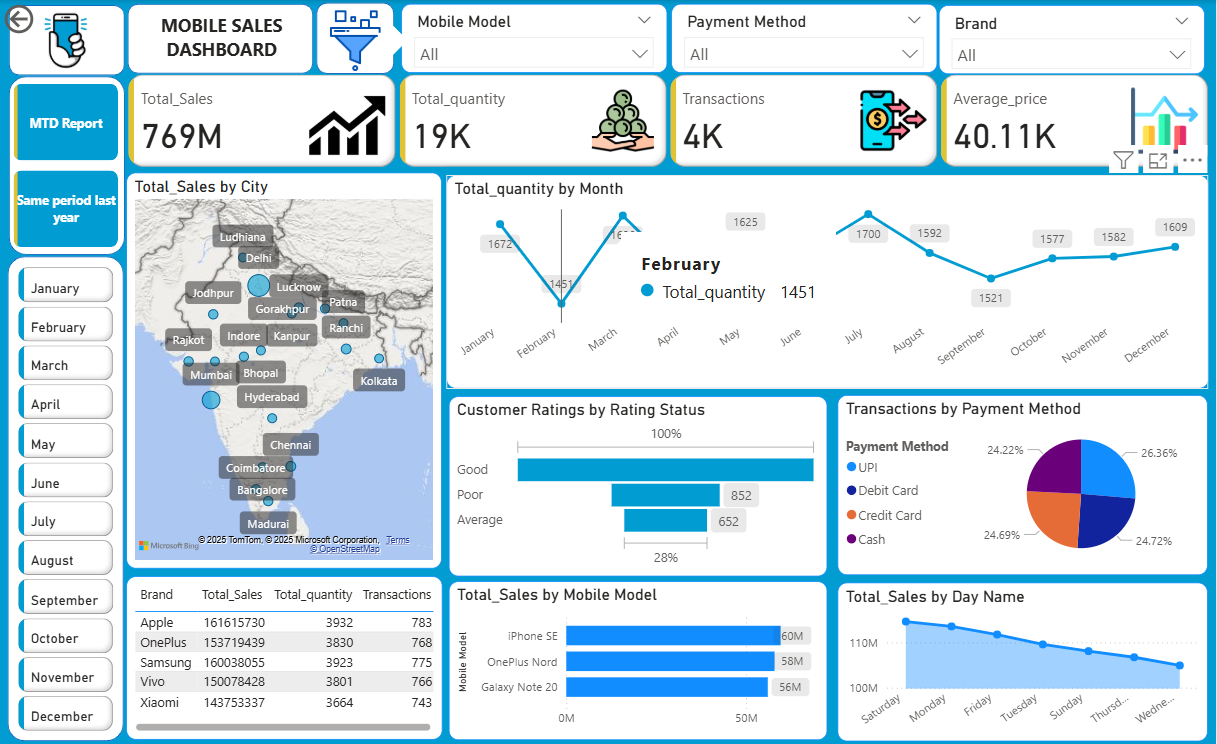

Layout of this report page (visuals, bound fields, positions):
{"tool":"powerbi","page":{"name":"Dashboard","canvas":[1280,785],"ordinal":0},"visuals":[{"type":"shape","box":[9.6,5.5,122.1,74.1],"z":0},{"type":"image","box":[9.6,0,119.4,85.1],"z":1000},{"type":"shape","box":[9.2,80.2,122.3,188.1],"z":2000},{"type":"shape","box":[7.9,269.6,122.3,510.4],"z":3000},{"type":"advancedSlicerVisual","fields":{"Values":["Custom_calendar.Date.Variation.Date Hierarchy.Month"]},"box":[14.8,275.7,110.3,508.3],"z":4000},{"type":"cardVisual","fields":{"Data":["Mobiles_sales_data.Total_Sales","Mobiles_sales_data.Total_quantity","Mobiles_sales_data.Transactions","Mobiles_sales_data.Average_price"]},"box":[130.2,74,1149.8,107.6],"z":5000},{"type":"slicer","fields":{"Values":["Mobiles_sales_data.Mobile Model"]},"box":[422.3,4,279.7,72.6],"z":6000},{"type":"slicer","fields":{"Values":["Mobiles_sales_data.Payment Method"]},"box":[706,4,279.7,72.6],"z":7000},{"type":"slicer","fields":{"Values":["Mobiles_sales_data.Brand"]},"box":[988.4,5.4,279.7,72.6],"z":8000},{"type":"shape","box":[332.2,2.7,82,75.3],"z":9000},{"type":"image","box":[334.9,5.4,76.7,75.3],"z":10000},{"type":"shape","box":[396.7,26.9,32.3,32.3],"z":11000},{"type":"shape","box":[134.5,4,196.3,74],"z":12000},{"type":"textbox","box":[154.7,9.4,156,61.9],"z":13000},{"type":"map","fields":{"Category":["Mobiles_sales_data.City"],"Size":["Mobiles_sales_data.Total_Sales"]},"box":[133.2,182,332.3,416.7],"z":14000},{"type":"lineChart","fields":{"Category":["Custom_calendar.Date.Variation.Date Hierarchy.Month"],"Y":["Mobiles_sales_data.Total_quantity"]},"box":[469.6,184.1,802.4,224.9],"z":15000},{"type":"funnel","title":"Customer Ratings by Rating Status","fields":{"Y":["CountNonNull(Mobiles_sales_data.Customer Ratings)"],"Category":["Mobiles_sales_data.Rating Status"]},"box":[472.2,417,398.6,189.4],"z":16000},{"type":"pieChart","fields":{"Y":["Mobiles_sales_data.Transactions"],"Category":["Mobiles_sales_data.Payment Method"]},"box":[881.3,415.7,389.3,189.4],"z":17000},{"type":"clusteredBarChart","fields":{"Category":["Mobiles_sales_data.Mobile Model"],"Y":["Mobiles_sales_data.Total_Sales"]},"box":[472.2,611.6,398.6,167.1],"z":18000},{"type":"areaChart","fields":{"Category":["Custom_calendar.Day Name"],"Y":["Mobiles_sales_data.Total_Sales"]},"box":[881.3,613,389.3,167.1],"z":19000},{"type":"tableEx","fields":{"Values":["Mobiles_sales_data.Brand","Mobiles_sales_data.Total_Sales","Mobiles_sales_data.Total_quantity","Mobiles_sales_data.Transactions"]},"box":[132.9,606.4,332.8,172.3],"z":20000},{"type":"actionButton","box":[0,0,100,40],"z":21000},{"type":"pageNavigator","box":[14.5,88.1,110.5,172.3],"z":22000}]}

Visuals, with their boxes in screenshot pixels (x1, y1, x2, y2), scaled from the page's 1280x785 canvas onto the 1217x744 screenshot:
shape: Rect(9, 5, 125, 75)
image: Rect(9, 0, 123, 81)
shape: Rect(9, 76, 125, 254)
shape: Rect(8, 256, 124, 739)
advancedSlicerVisual - Custom_calendar.Date.Variation.Date Hierarchy.Month: Rect(14, 261, 119, 743)
cardVisual - Mobiles_sales_data.Total_Sales x Mobiles_sales_data.Total_quantity: Rect(124, 70, 1216, 172)
slicer - Mobiles_sales_data.Mobile Model: Rect(402, 4, 667, 73)
slicer - Mobiles_sales_data.Payment Method: Rect(671, 4, 937, 73)
slicer - Mobiles_sales_data.Brand: Rect(940, 5, 1206, 74)
shape: Rect(316, 3, 394, 74)
image: Rect(318, 5, 391, 76)
shape: Rect(377, 25, 408, 56)
shape: Rect(128, 4, 315, 74)
textbox: Rect(147, 9, 295, 68)
map - Mobiles_sales_data.City x Mobiles_sales_data.Total_Sales: Rect(127, 172, 443, 567)
lineChart - Custom_calendar.Date.Variation.Date Hierarchy.Month x Mobiles_sales_data.Total_quantity: Rect(446, 174, 1209, 388)
"Customer Ratings by Rating Status" funnel: Rect(449, 395, 828, 575)
pieChart - Mobiles_sales_data.Transactions x Mobiles_sales_data.Payment Method: Rect(838, 394, 1208, 573)
clusteredBarChart - Mobiles_sales_data.Mobile Model x Mobiles_sales_data.Total_Sales: Rect(449, 580, 828, 738)
areaChart - Custom_calendar.Day Name x Mobiles_sales_data.Total_Sales: Rect(838, 581, 1208, 739)
tableEx - Mobiles_sales_data.Brand x Mobiles_sales_data.Total_Sales: Rect(126, 575, 443, 738)
actionButton: Rect(0, 0, 95, 38)
pageNavigator: Rect(14, 83, 119, 247)
